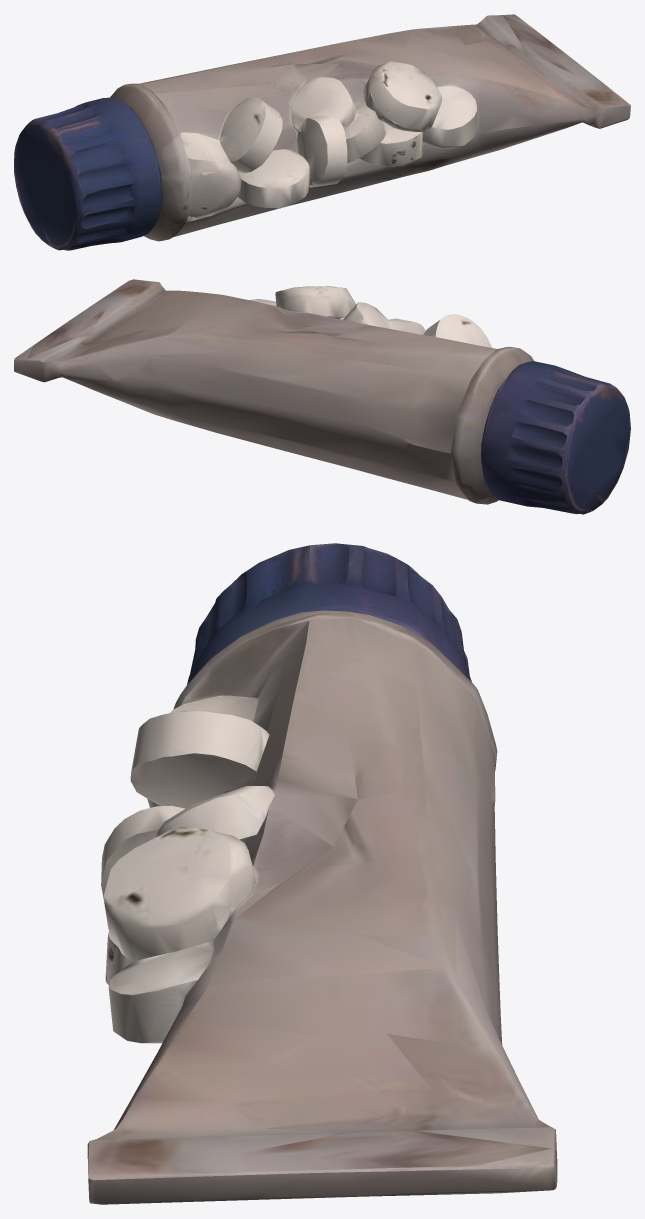
Rendered from water_tablets_hlornye_idle.glb.
The picture shows the model from 3 angles, top to bottom: view 1: azimuth 30°, elevation 25°; view 2: azimuth 150°, elevation 25°; view 3: azimuth 270°, elevation 25°; orthographic projection. The views are drawn at different scales.
Visible parts, largest first — view 1: tripo_node_318f1655-e691-4300-a267-b2fead61b6ef; view 2: tripo_node_318f1655-e691-4300-a267-b2fead61b6ef; view 3: tripo_node_318f1655-e691-4300-a267-b2fead61b6ef.
Part boxes in pixels (x1,y1,x2,y2): tripo_node_318f1655-e691-4300-a267-b2fead61b6ef: (14,14,630,250); tripo_node_318f1655-e691-4300-a267-b2fead61b6ef: (14,279,630,514); tripo_node_318f1655-e691-4300-a267-b2fead61b6ef: (87,543,557,1204).
Bounding box in the file's own units: 0.0999 × 0.0266 × 0.0386.
1 material, 1 textured.
